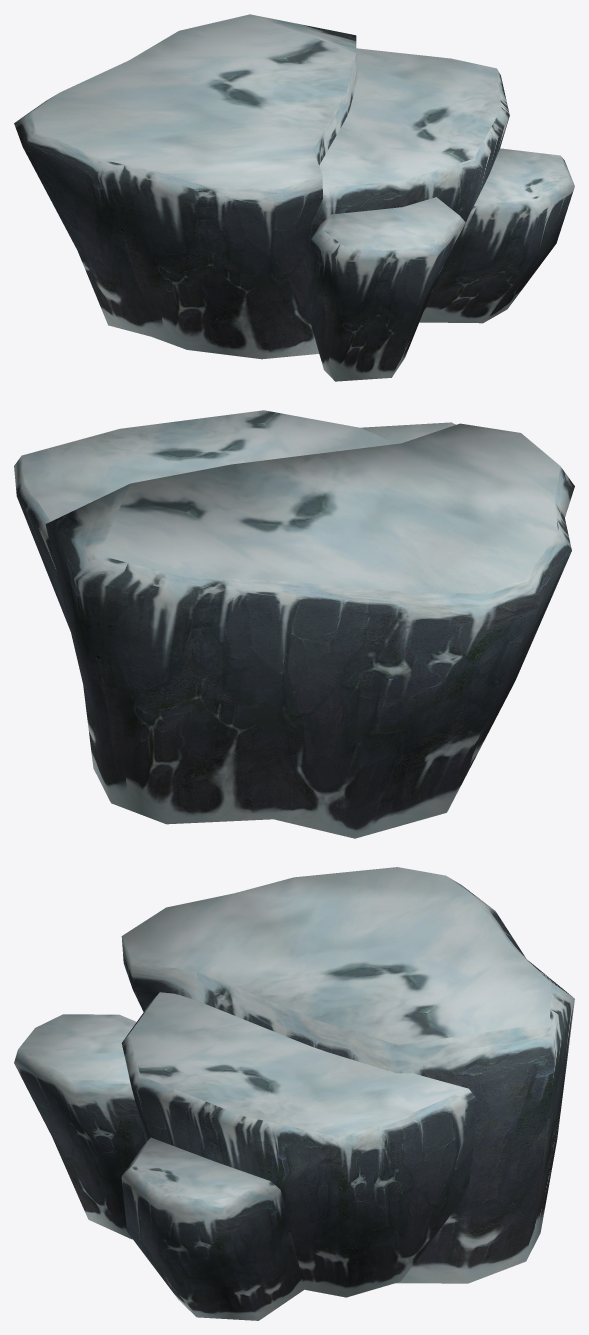
Rendered from yw_xuesebingfeng_fengbianshi.FBX.
3 views of the same model, one above another, from view 1: azimuth 30°, elevation 25°; view 2: azimuth 150°, elevation 25°; view 3: azimuth 270°, elevation 25° (orthographic). The views are drawn at different scales.
Visible parts, largest first — view 1: yw_xuesebingfeng_fengbianshi; view 2: yw_xuesebingfeng_fengbianshi; view 3: yw_xuesebingfeng_fengbianshi.
Part boxes in pixels (box(x1,y1,x2,y2)): yw_xuesebingfeng_fengbianshi: box(14, 14, 574, 381); yw_xuesebingfeng_fengbianshi: box(14, 410, 574, 838); yw_xuesebingfeng_fengbianshi: box(14, 867, 574, 1320).
Bounding box in the file's own units: 1633 × 703 × 1491.
